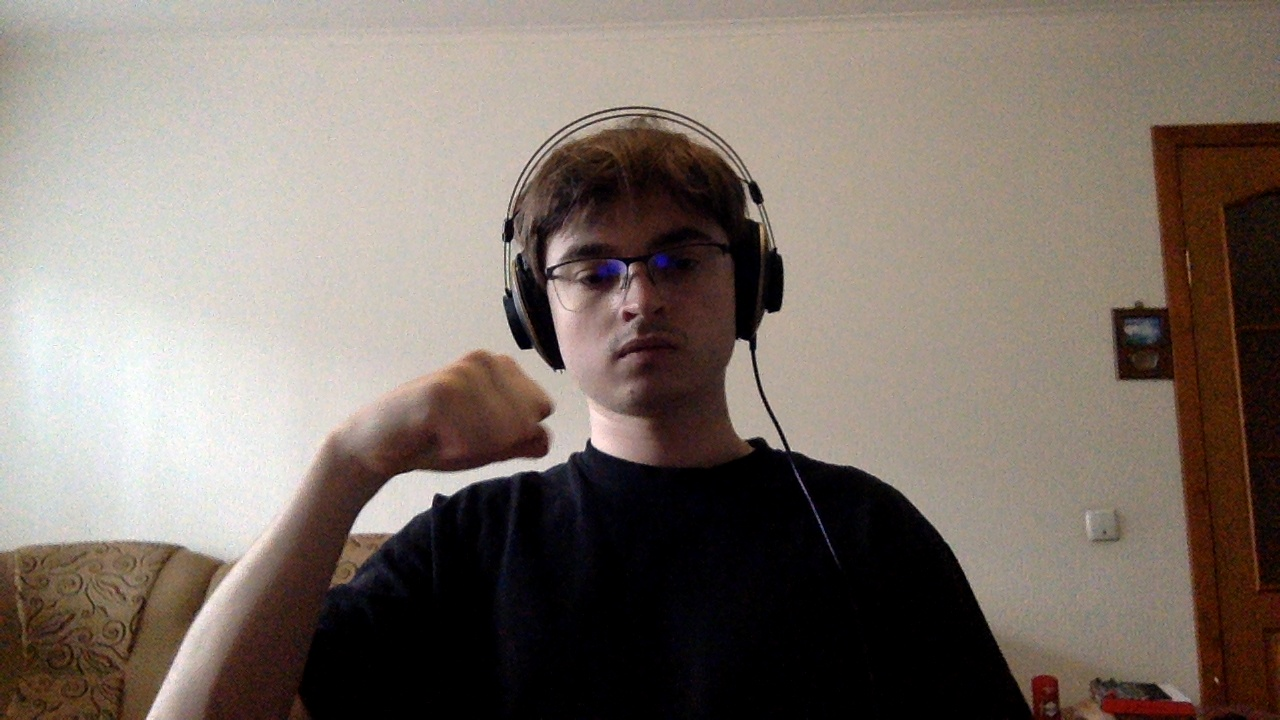yes: (331, 318, 597, 550)
